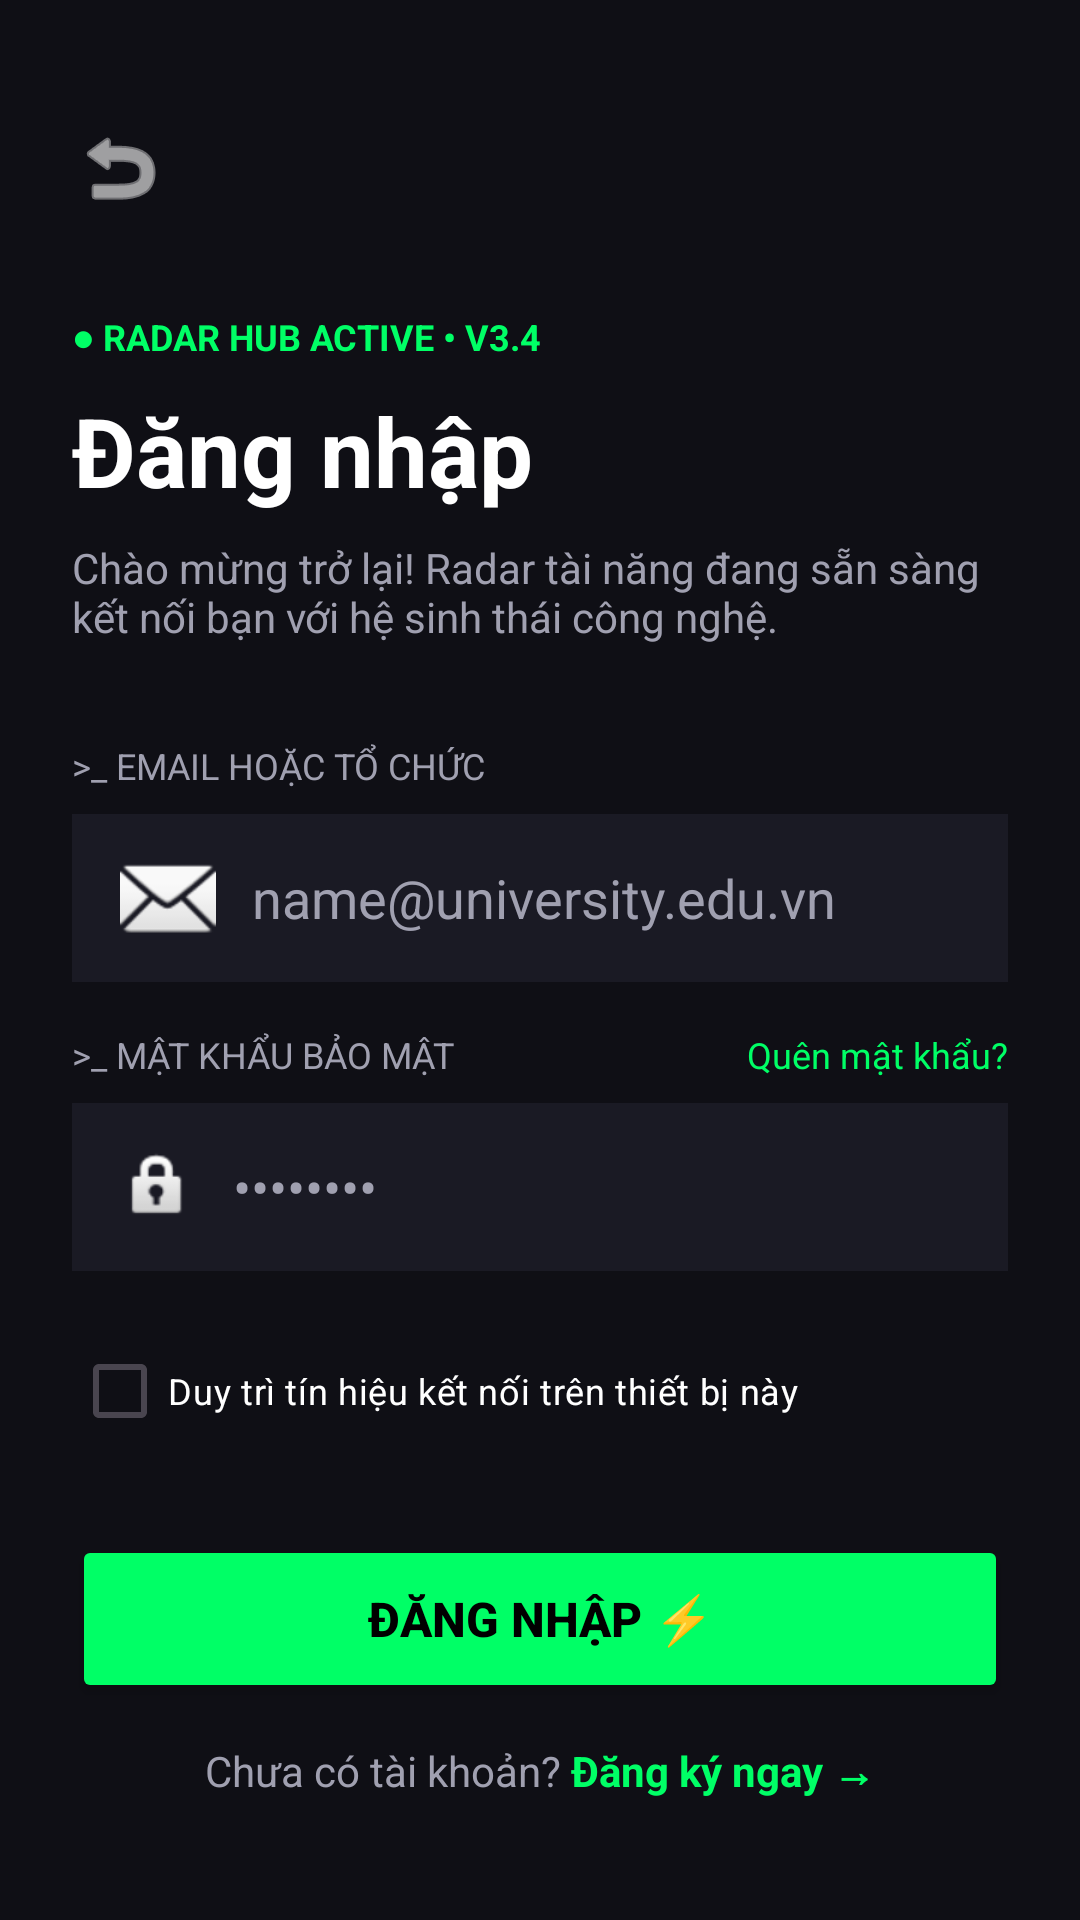

Screen size 1080 x 1920. Icon name, then its center in pixels as (x=x, y=y):
Quay lại: (x=121, y=168)
